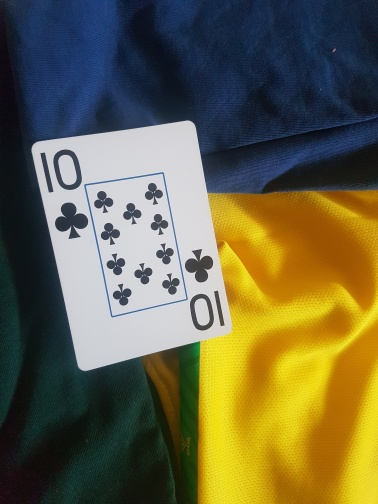ten: (29, 114, 233, 373)
